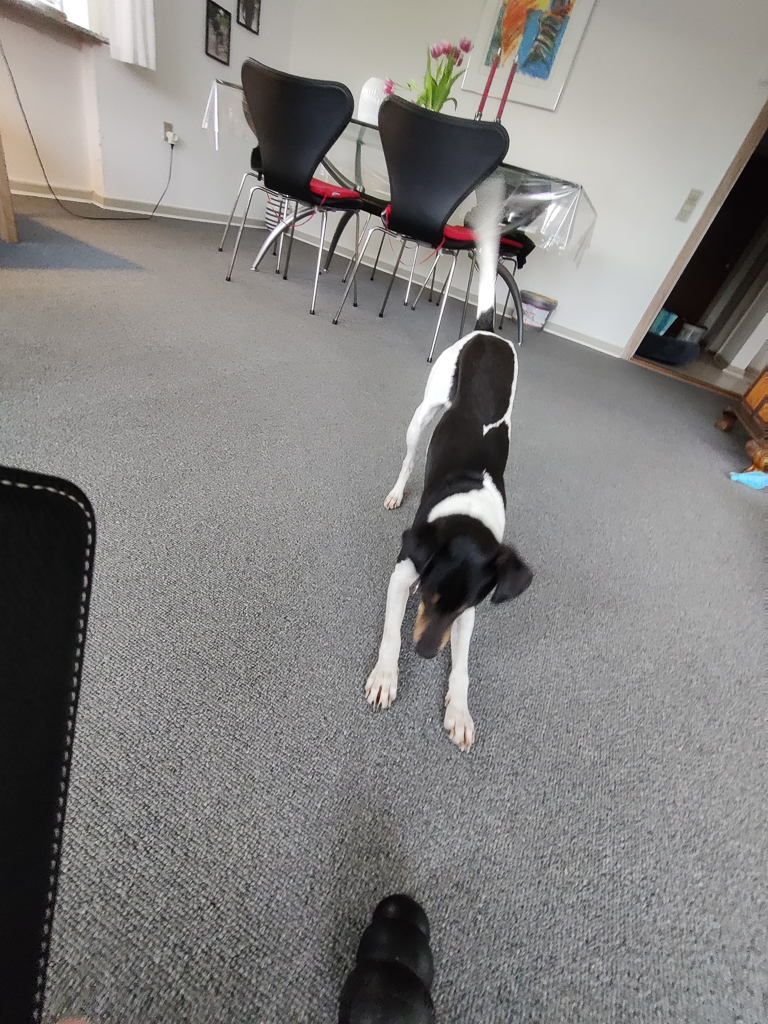Dog: (341, 163, 565, 768)
